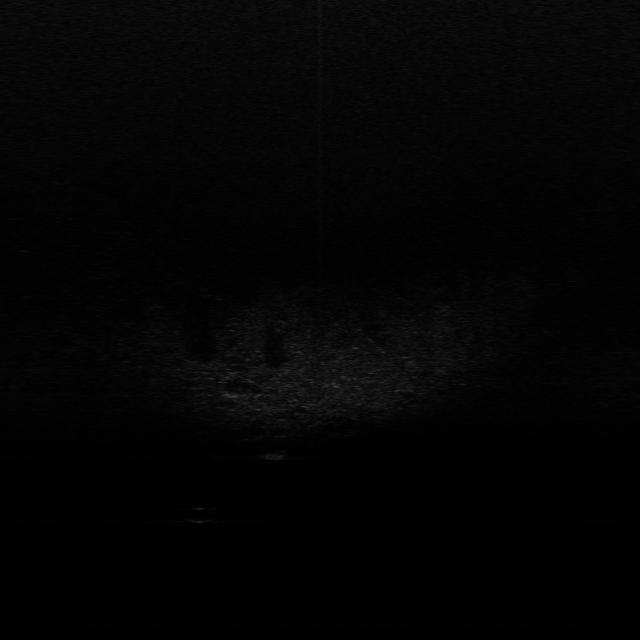ball: (179, 502, 222, 523)
cube: (268, 449, 271, 462)
